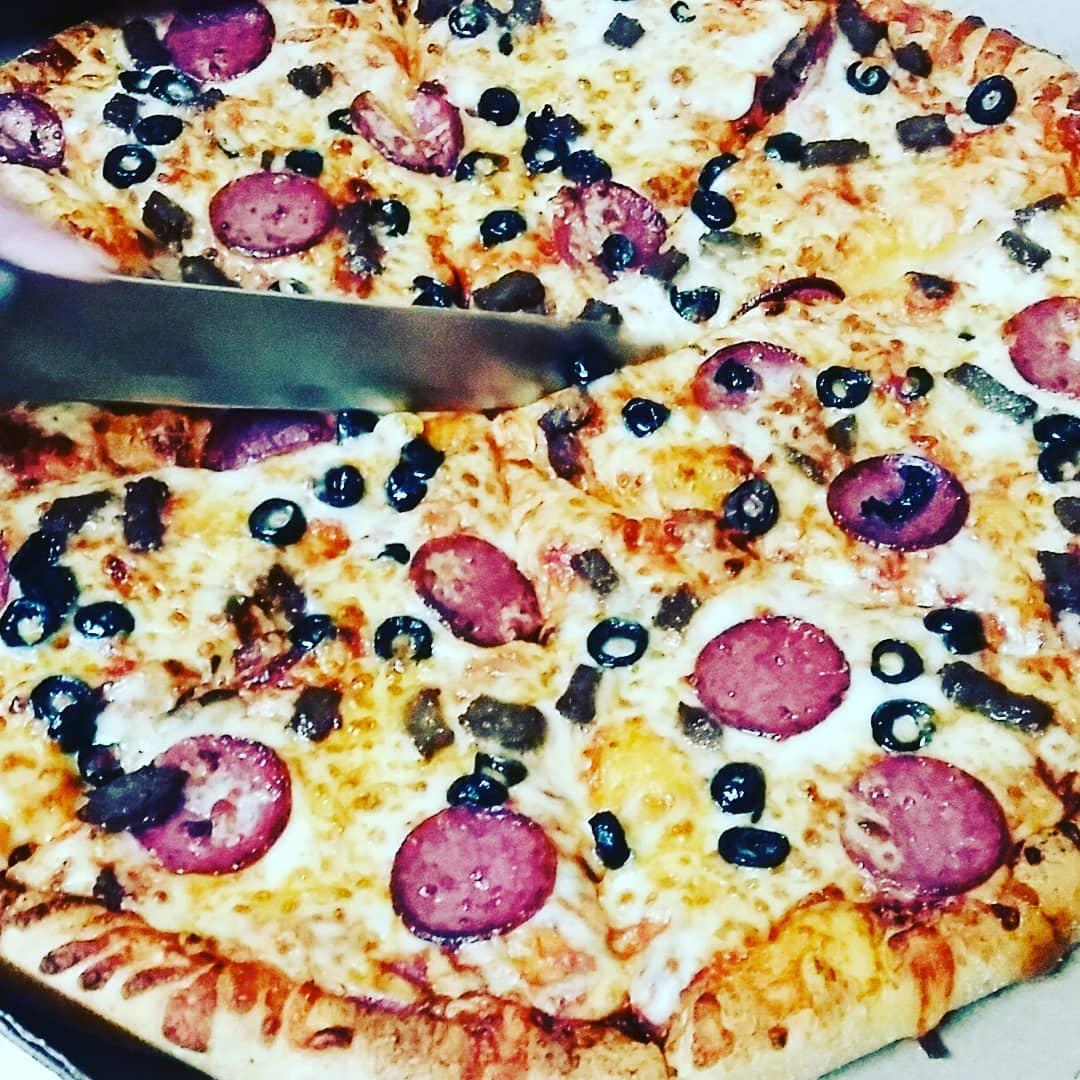Olives: (0, 490, 84, 647), (938, 660, 1055, 734), (76, 756, 186, 834), (28, 670, 105, 756), (524, 108, 611, 181), (437, 750, 532, 803), (95, 92, 190, 143), (861, 462, 936, 525), (385, 438, 443, 513), (114, 17, 167, 91), (718, 475, 781, 537), (121, 473, 169, 554), (765, 132, 871, 168), (870, 698, 938, 753), (1031, 409, 1080, 483), (926, 602, 993, 655), (690, 152, 737, 227), (710, 759, 771, 816), (245, 494, 312, 545), (588, 615, 651, 669), (1033, 546, 1080, 618), (137, 187, 196, 244), (473, 268, 546, 314), (372, 611, 433, 661), (866, 635, 926, 685), (717, 827, 789, 867), (84, 598, 142, 647), (814, 364, 874, 410), (966, 76, 1016, 125), (102, 144, 158, 187), (997, 230, 1052, 273), (589, 813, 632, 867), (617, 395, 671, 436), (897, 114, 954, 150), (313, 468, 367, 505), (409, 272, 460, 310), (175, 257, 239, 287), (669, 286, 719, 323), (445, 0, 490, 41), (482, 208, 527, 245), (476, 87, 519, 125), (845, 61, 890, 95), (457, 152, 508, 182), (899, 365, 937, 401), (895, 42, 934, 77), (1050, 492, 1080, 536), (578, 299, 623, 326), (668, 0, 698, 28)
Pepperoni: (390, 803, 558, 946), (837, 756, 1011, 892), (139, 733, 290, 873), (695, 615, 852, 738), (828, 451, 967, 552), (414, 536, 539, 644), (209, 171, 338, 257), (554, 181, 667, 275), (351, 89, 464, 172), (694, 340, 808, 421), (167, 0, 274, 86), (998, 296, 1080, 396), (730, 271, 842, 324), (0, 93, 64, 169)
Pizza: (0, 0, 1080, 1080)
